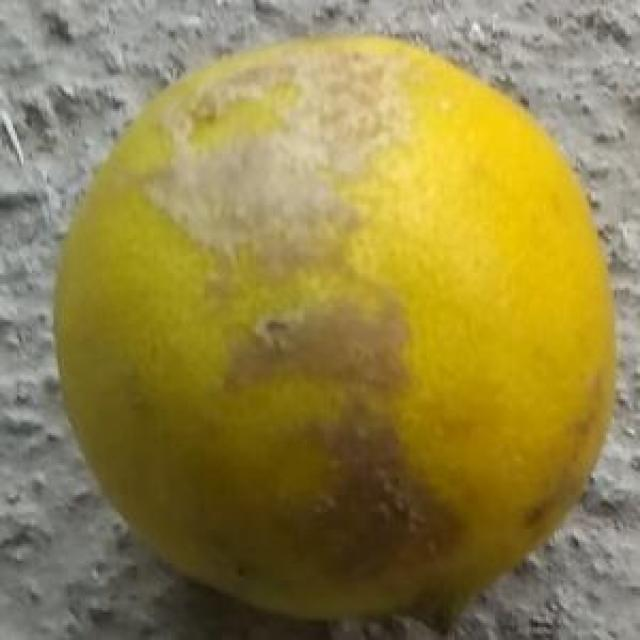lemon: (54, 34, 614, 625)
